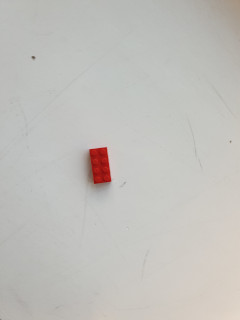2x4 red: (88, 146, 112, 185)
